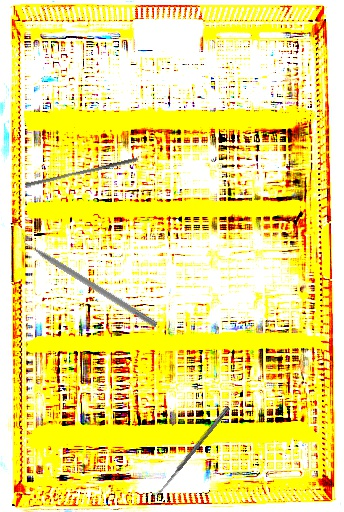Chopper: (16, 228, 163, 329)
Pusher: (24, 153, 139, 191)
Surgical Spoon: (152, 405, 231, 500)
